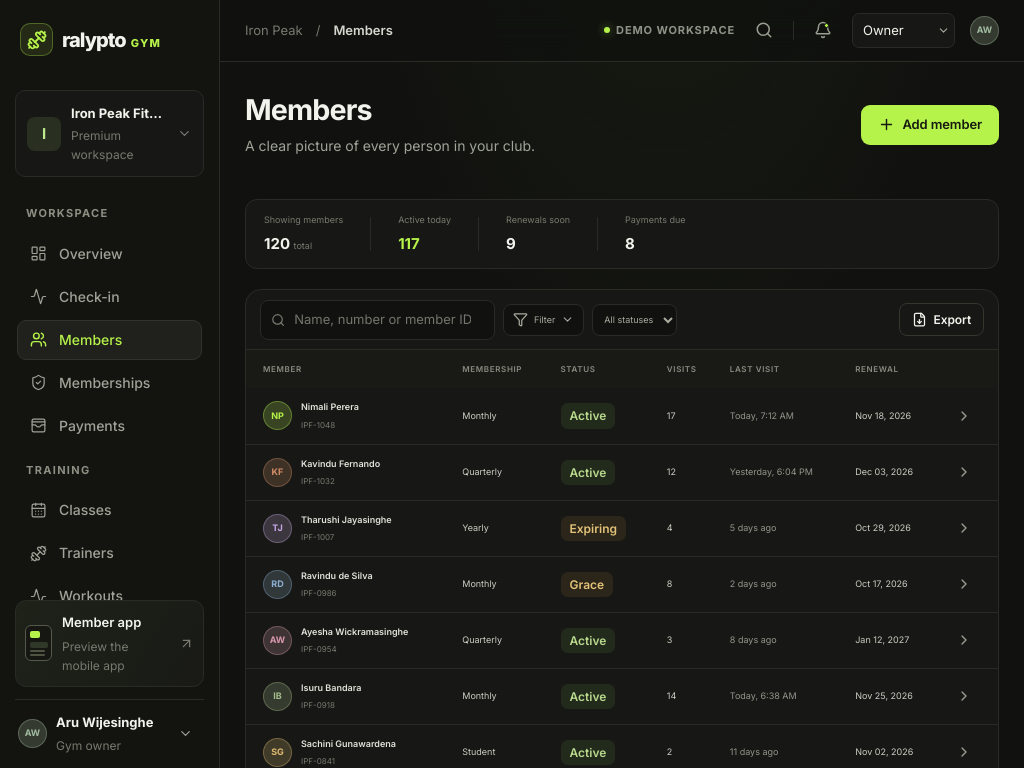
Test: Ralypto Gym frontend demo › adds a member after validating the required details
Click the button "Add member". click: coordinates (930, 125)
box: x1=862 y1=105 x2=999 y2=145
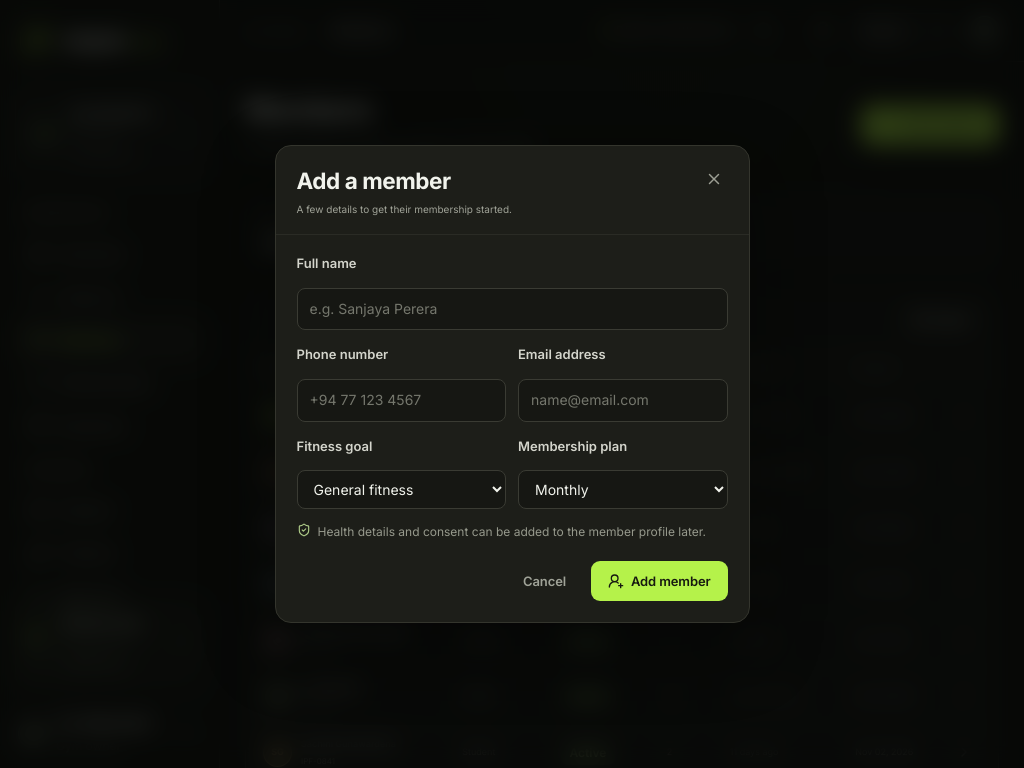
Type "Sanjaya Perera" into the field labelled "Full name". click: coordinates (512, 309)
box: x1=296 y1=288 x2=728 y2=330
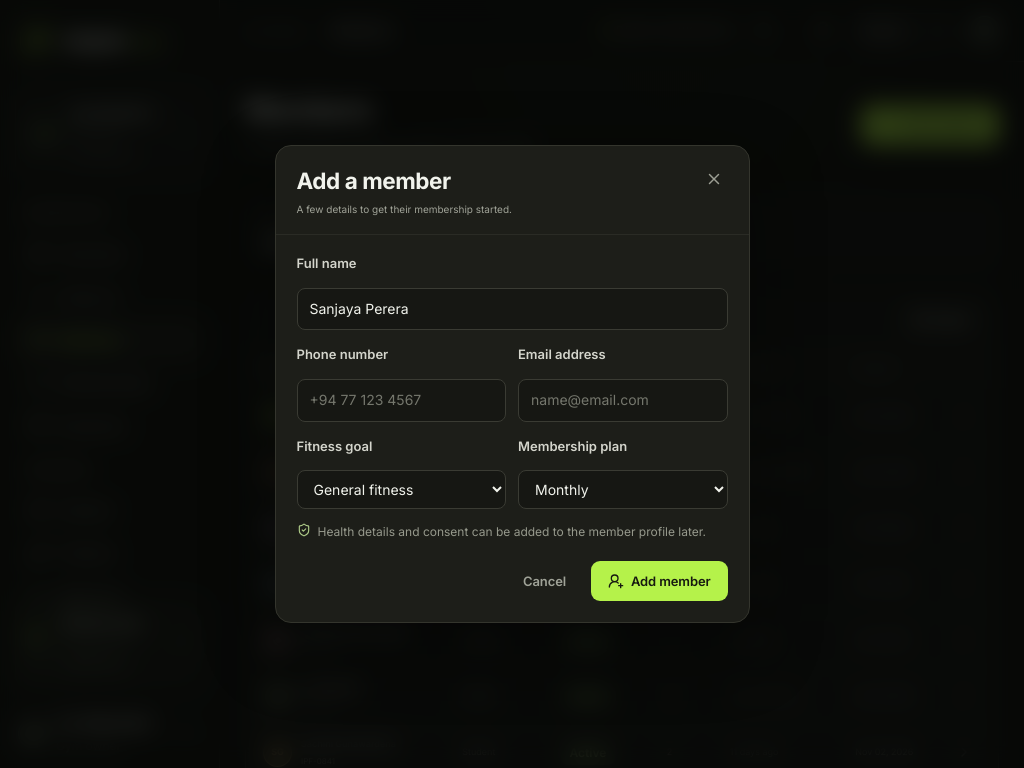
Type "+94 77 111 2233" into the field labelled "Phone number". click: coordinates (401, 400)
box: x1=296 y1=379 x2=506 y2=422
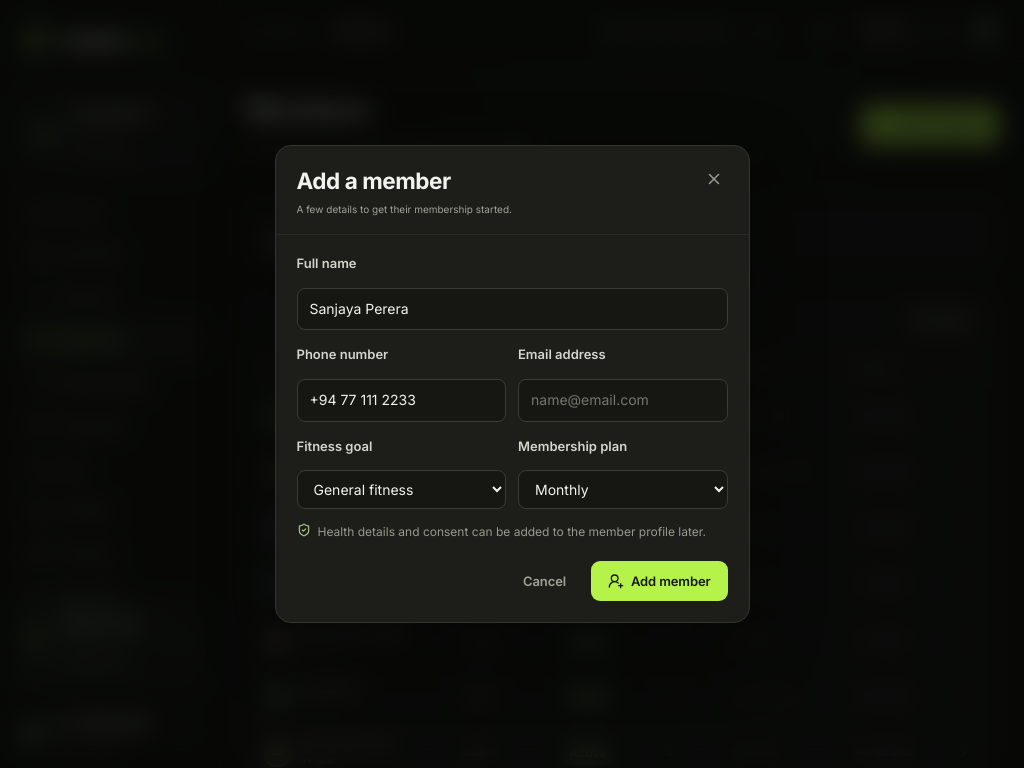
Click the button "Add member". click: coordinates (659, 581)
box: x1=591 y1=561 x2=728 y2=601
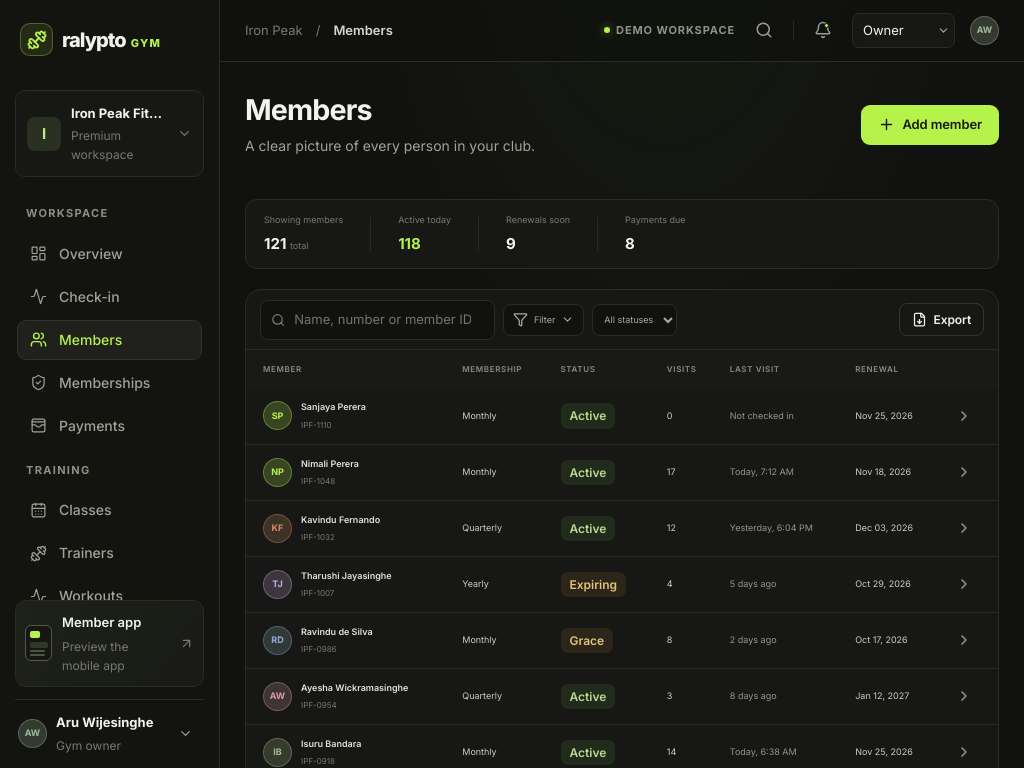
Now the text "Sanjaya Perera" is shown, box x1=301 y1=400 x2=366 y2=415
